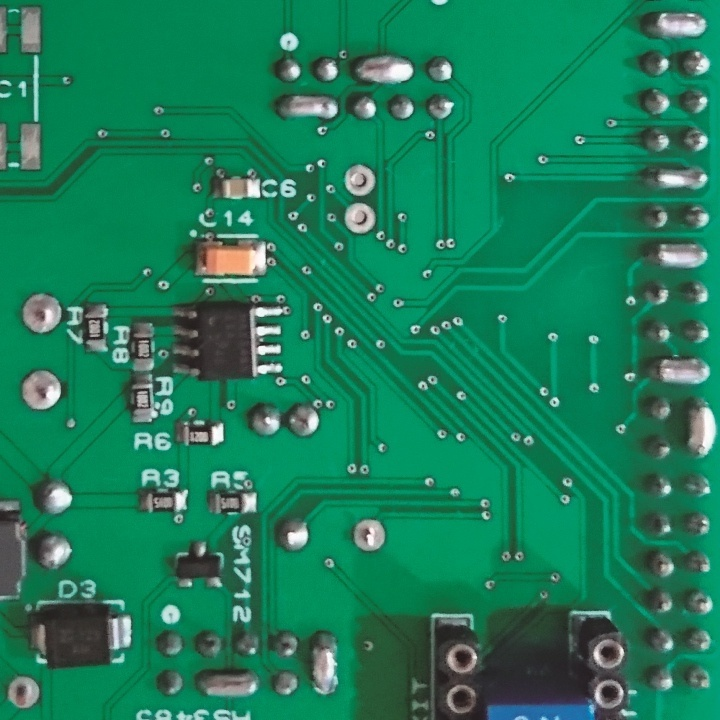F: (19, 290, 65, 336), (18, 366, 64, 412), (4, 672, 47, 713), (341, 160, 376, 198), (352, 517, 387, 555), (343, 202, 376, 236)
P: (348, 50, 418, 86), (306, 626, 340, 700), (274, 90, 343, 126), (644, 352, 714, 387), (640, 161, 712, 195), (639, 8, 708, 43), (645, 237, 713, 272), (686, 395, 720, 463), (192, 669, 262, 698)
